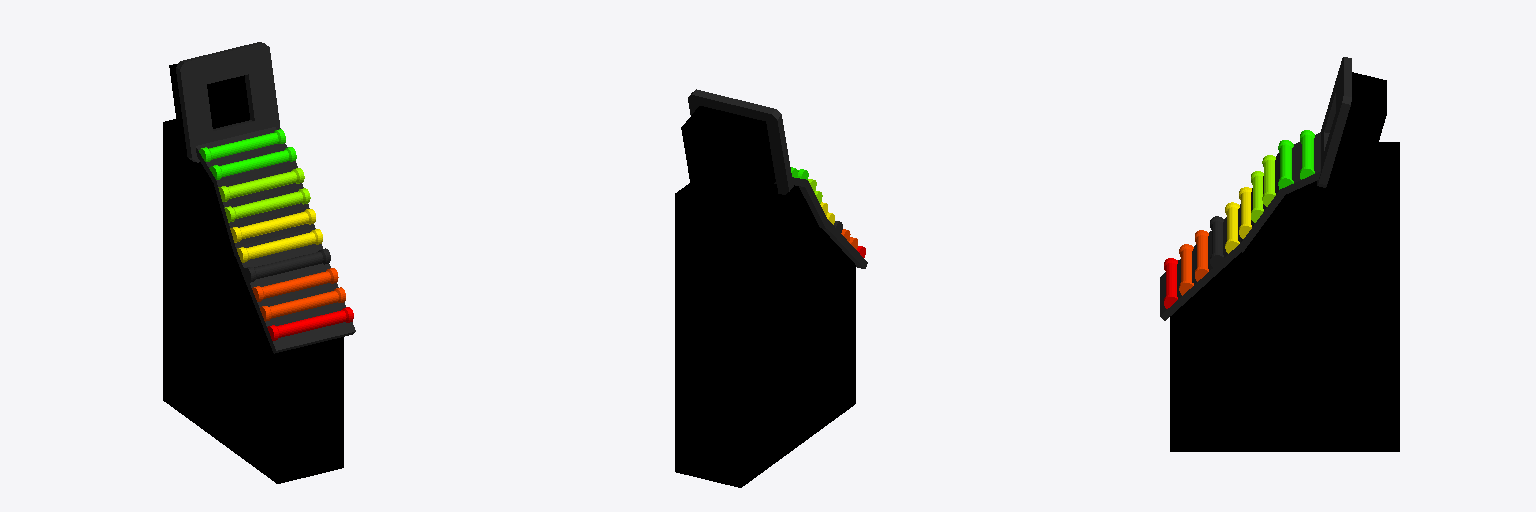
File: ThrottleMeter.obj
3 views of the same model, side by side, from view 1: azimuth 30°, elevation 25°; view 2: azimuth 150°, elevation 25°; view 3: azimuth 270°, elevation 25° (orthographic).
Visible parts, largest first — view 1: mergedBlocks; view 2: mergedBlocks; view 3: mergedBlocks.
Boxes of the visible parts, x1,y1,x2,y2 form: mergedBlocks: [163, 42, 355, 483]; mergedBlocks: [675, 89, 867, 487]; mergedBlocks: [1160, 57, 1399, 451].
Bounding box in the file's own units: 1.35 × 5.18 × 3.14.